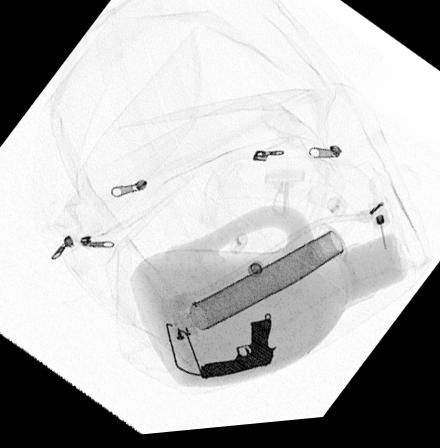Gun: (198, 318, 278, 383)
